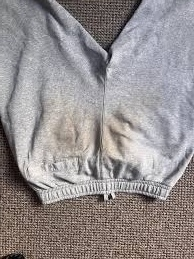earth: (108, 121, 127, 155), (65, 133, 75, 148)
